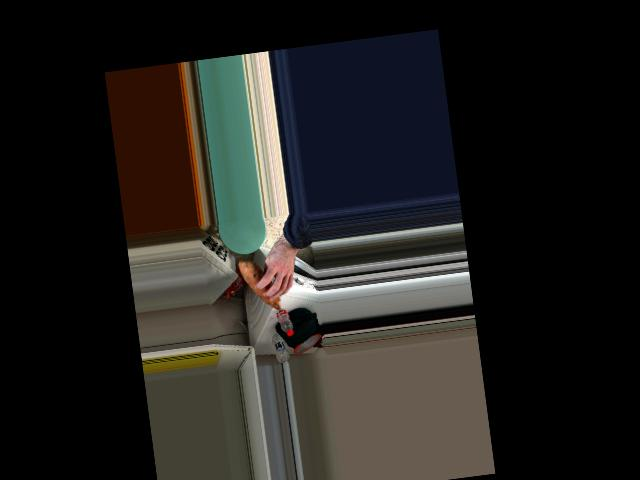sweet_potato: (239, 263, 287, 312)
